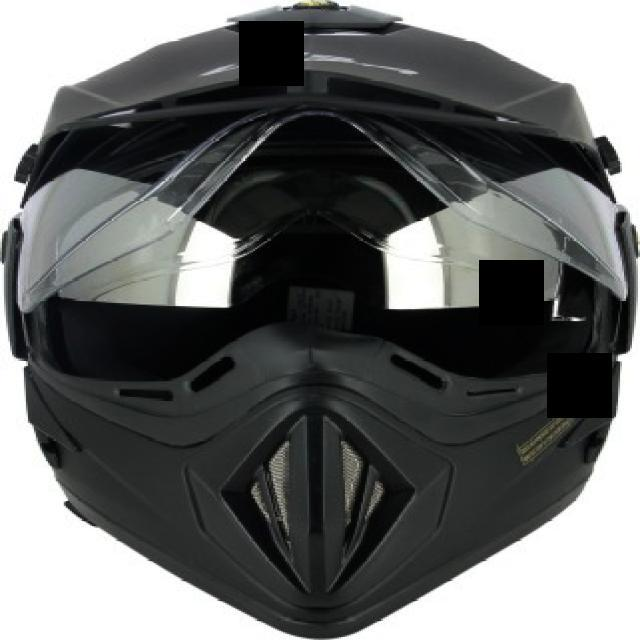helmet: (9, 0, 640, 640)
